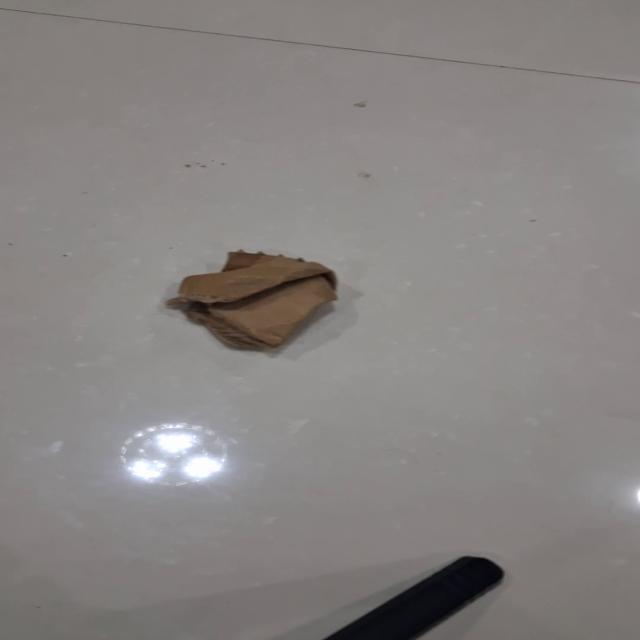paper: (166, 249, 339, 351)
